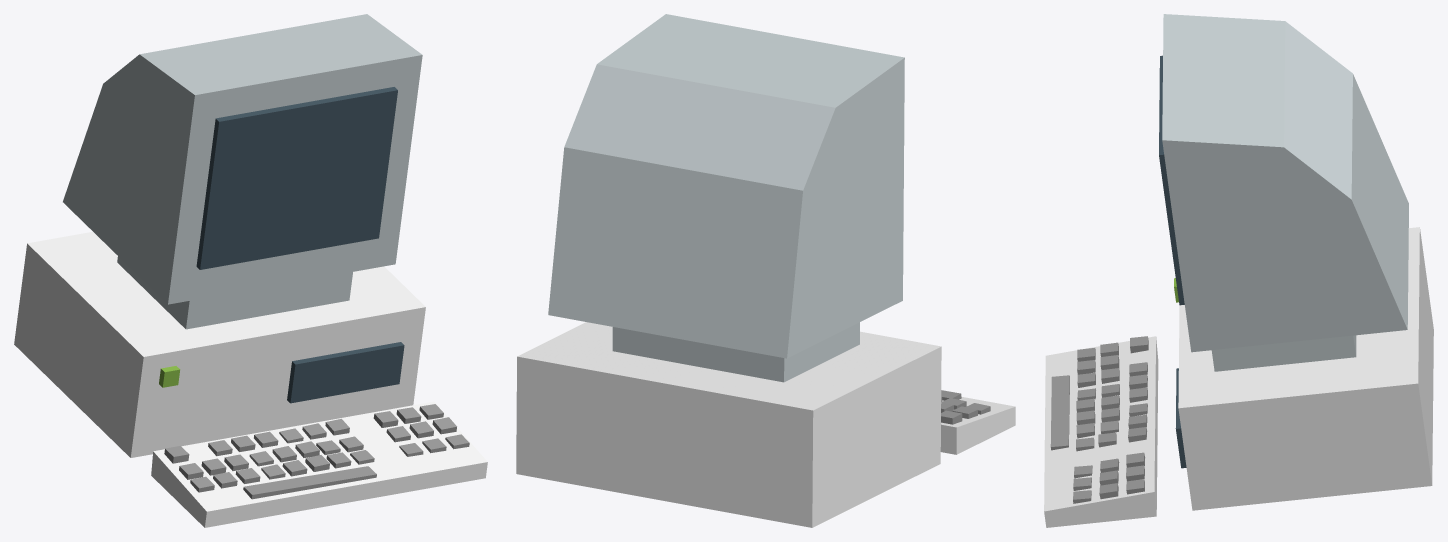
Rendered from computer.glb.
3 views of the same model, side by side, from view 1: azimuth 30°, elevation 25°; view 2: azimuth 150°, elevation 25°; view 3: azimuth 270°, elevation 25° (orthographic). The views are drawn at different scales.
Parts seen in each view (by area): view 1: group1262710399; view 2: group1262710399; view 3: group1262710399.
Boxes of the visible parts, bbox=[...] form: group1262710399: bbox=[14, 14, 487, 527]; group1262710399: bbox=[516, 14, 1015, 527]; group1262710399: bbox=[1044, 14, 1433, 527].
Bounding box in the file's own units: 0.7676 × 1 × 0.8875.
